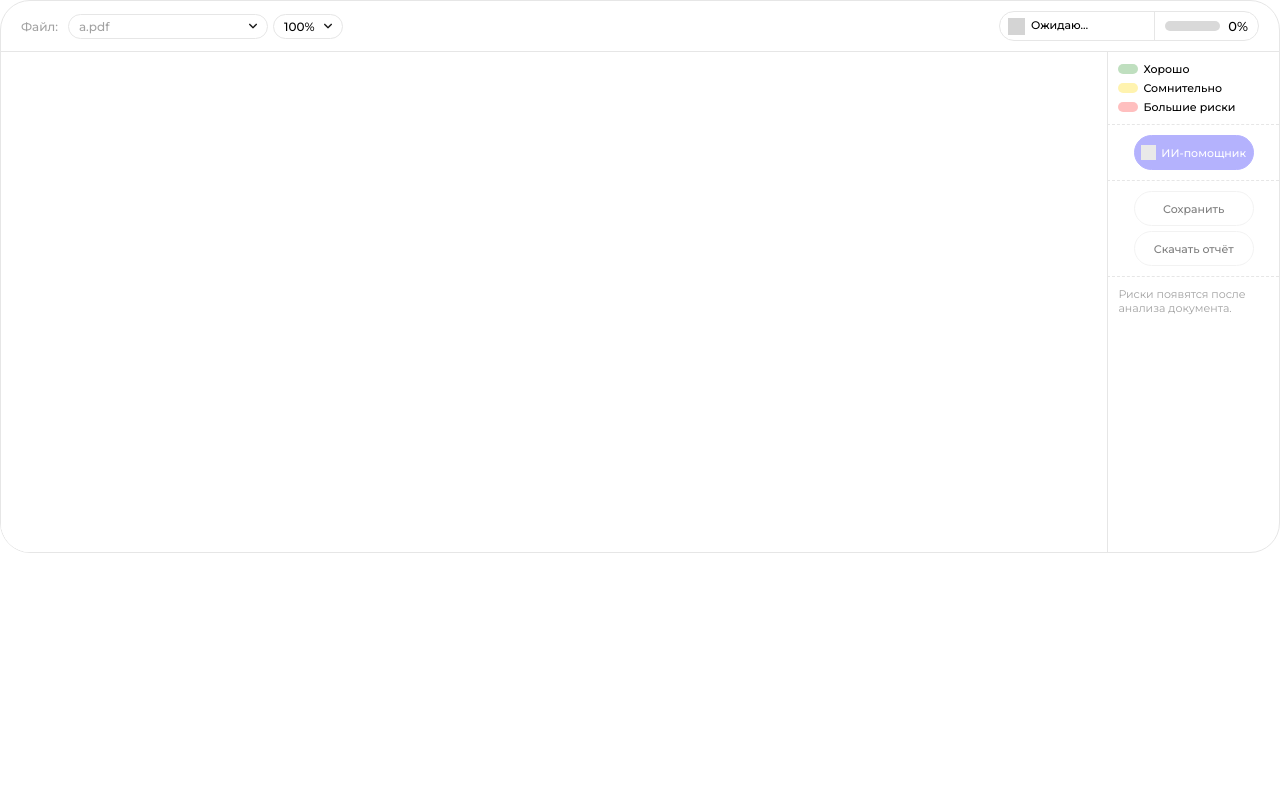
Test case: AnalysisResult — состояние с документами › file-selector dropdown открывается по клику и показывает все документы
The width and height of the screenshot is (1280, 800).
Click the element with class "file-selector".
click(168, 26)  # box [68,14,268,38]
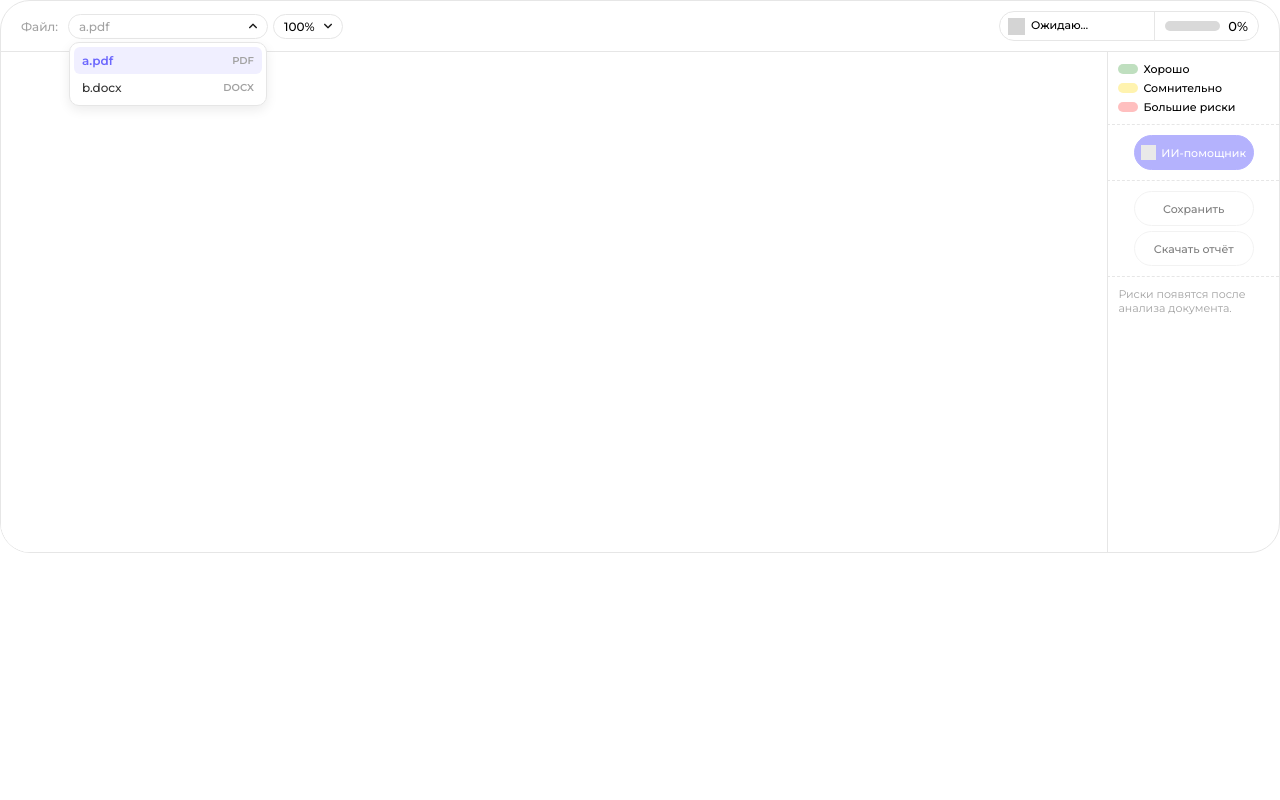
Check: the number of list items with class "file-selector__item" is 2, box [74,46,262,74]; [82,80,254,94]
